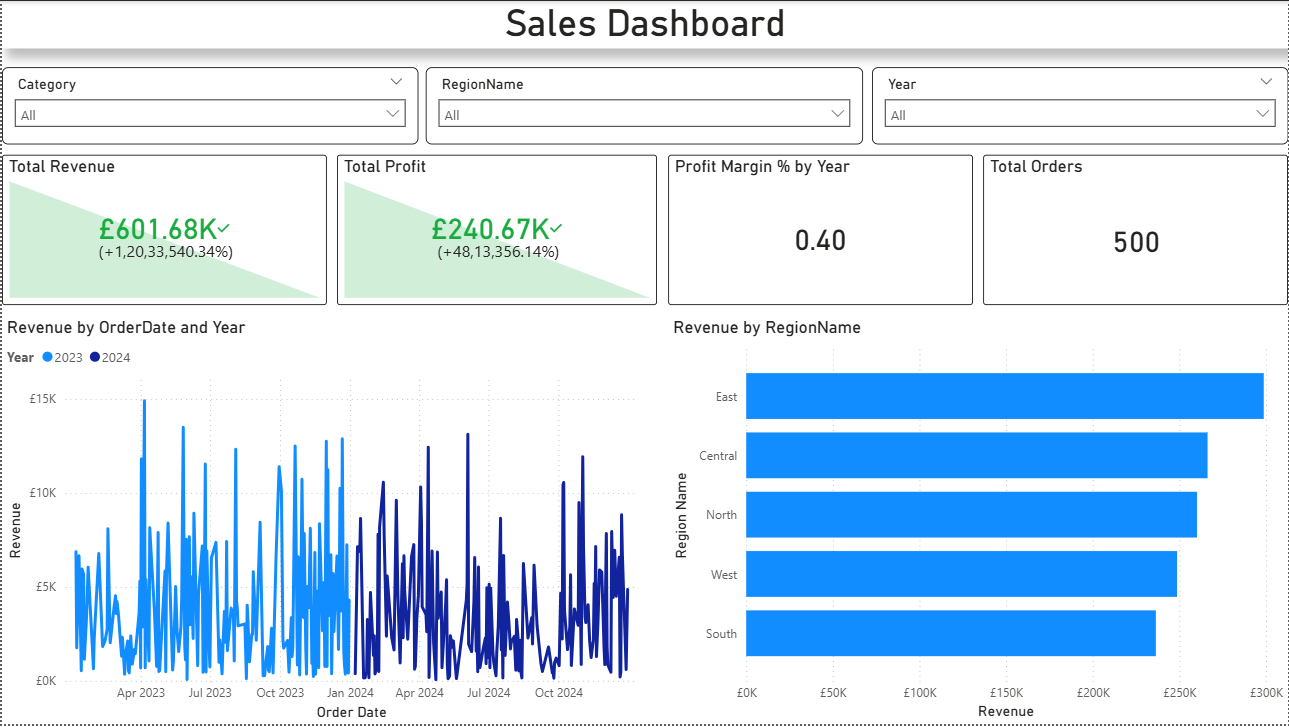

The dashboard page shown, as its layout file describes it:
{"tool":"powerbi","page":{"name":"Page 1","canvas":[1280,720],"ordinal":0},"visuals":[{"type":"textbox","title":"Sales Dashboard","box":[0,0,1280,47.3],"z":0},{"type":"slicer","fields":{"Values":["DimProduct.Category"]},"box":[0,65.9,414.2,77.1],"z":1000},{"type":"slicer","fields":{"Values":["DimRegion.RegionName"]},"box":[421.7,65.9,435.4,77.1],"z":2000},{"type":"slicer","fields":{"Values":["DimDate.Date.Variation.Date Hierarchy.Year"]},"box":[865.8,65.9,414.2,77.1],"z":3000},{"type":"kpi","title":"Total Revenue","fields":{"Indicator":["FactSales.Total Revenue"],"TrendLine":["DimDate.Date.Variation.Date Hierarchy.Year"],"Goal":["CountNonNull(DimRegion.Target_Revenue)"]},"box":[0,153,323.4,149.3],"z":4000},{"type":"kpi","title":"Total Profit ","fields":{"Indicator":["FactSales.Total Profit"],"TrendLine":["DimDate.Date.Variation.Date Hierarchy.Year"],"Goal":["CountNonNull(DimRegion.Target_Revenue)"]},"box":[333.4,153,318.5,149.3],"z":5000},{"type":"kpi","fields":{"Indicator":["FactSales.Profit Margin %"],"TrendLine":["DimDate.Date.Variation.Date Hierarchy.Year"]},"box":[663,153,303.5,149.3],"z":6000},{"type":"card","title":"Total Orders","fields":{"Values":["FactSales.Total Orders"]},"box":[976.5,153,303.5,149.3],"z":7000},{"type":"lineChart","title":"Revenue by OrderDate and Year","fields":{"Category":["FactSales.OrderDate"],"Y":["Sum(FactSales.Revenue)"],"Series":["DimDate.Date.Variation.Date Hierarchy.Year"]},"box":[0,314.7,651.8,405.5],"z":8000},{"type":"clusteredBarChart","title":"Revenue by RegionName","fields":{"Category":["DimRegion.RegionName"],"Y":["Sum(FactSales.Revenue)"]},"box":[663,314.7,617,405.5],"z":9000}]}

Visuals, with their boxes in screenshot pixels (x1, y1, x2, y2), scaled from the page's 1280x720 canvas onto the 1289x727 screenshot:
"Sales Dashboard" textbox: {"left": 0, "top": 0, "right": 1288, "bottom": 48}
slicer - DimProduct.Category: {"left": 0, "top": 67, "right": 417, "bottom": 144}
slicer - DimRegion.RegionName: {"left": 425, "top": 67, "right": 863, "bottom": 144}
slicer - DimDate.Date.Variation.Date Hierarchy.Year: {"left": 872, "top": 67, "right": 1288, "bottom": 144}
"Total Revenue" kpi: {"left": 0, "top": 154, "right": 326, "bottom": 305}
"Total Profit " kpi: {"left": 336, "top": 154, "right": 656, "bottom": 305}
kpi - FactSales.Profit Margin % x DimDate.Date.Variation.Date Hierarchy.Year: {"left": 668, "top": 154, "right": 973, "bottom": 305}
"Total Orders" card: {"left": 983, "top": 154, "right": 1288, "bottom": 305}
"Revenue by OrderDate and Year" lineChart: {"left": 0, "top": 318, "right": 656, "bottom": 726}
"Revenue by RegionName" clusteredBarChart: {"left": 668, "top": 318, "right": 1288, "bottom": 726}
